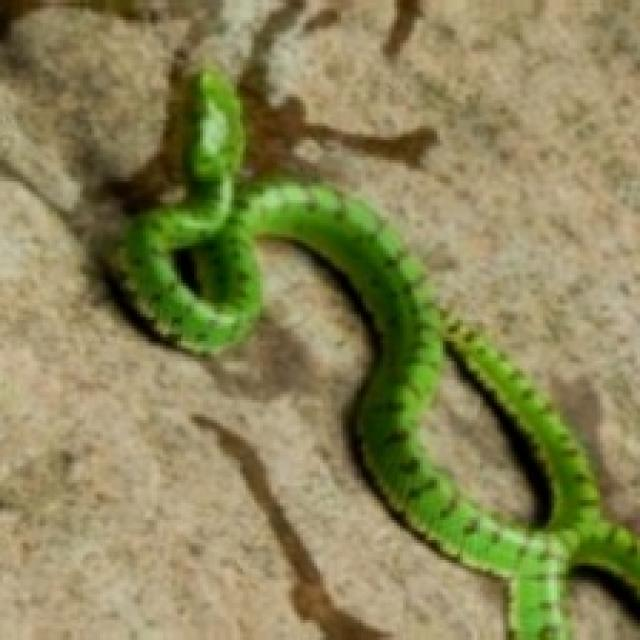philippine pitviper: (106, 63, 637, 637)
